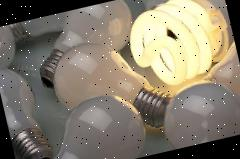lightbulb: (0, 0, 240, 159), (43, 24, 177, 148), (121, 0, 240, 93), (26, 0, 143, 89), (27, 86, 150, 159), (154, 70, 240, 150), (0, 59, 56, 159), (0, 23, 20, 69)
